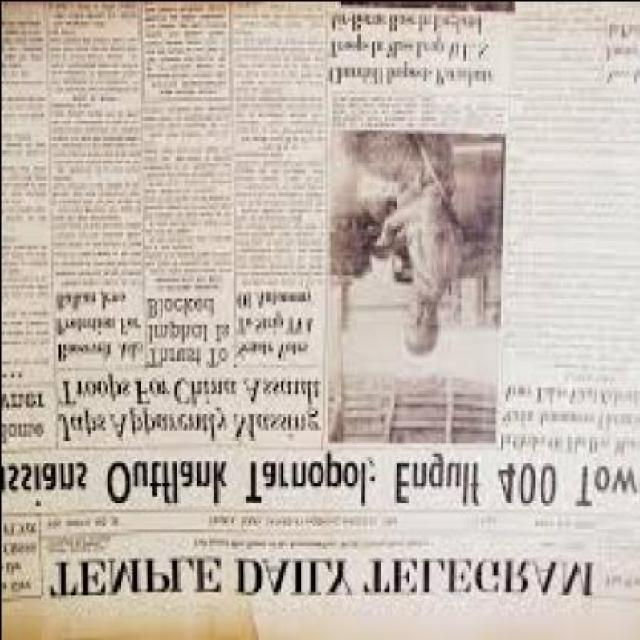PAPER: (2, 3, 638, 631)
